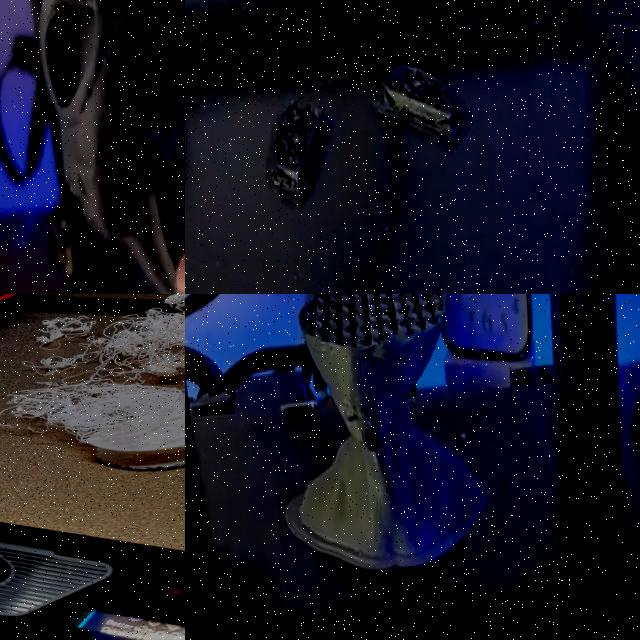spaghetti: (0, 358, 185, 504), (4, 294, 185, 390)
